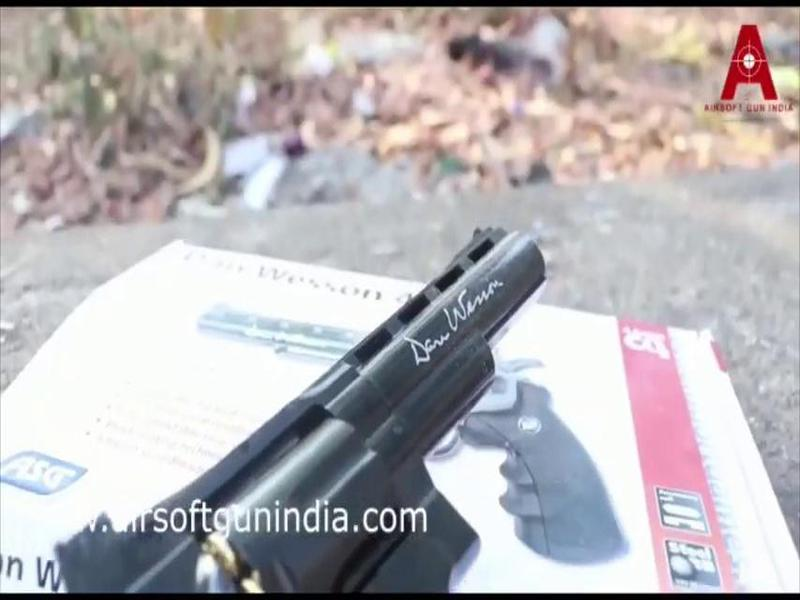Revolver: (47, 209, 556, 598)
